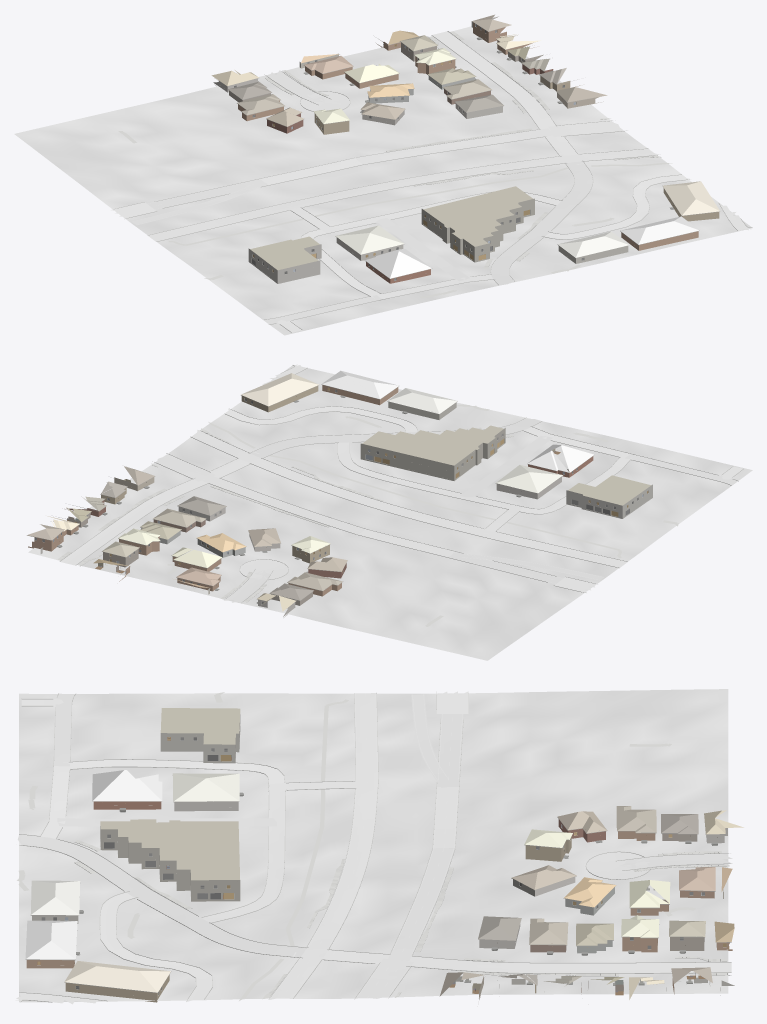
The picture shows the model from 3 angles, top to bottom: view 1: azimuth 30°, elevation 25°; view 2: azimuth 150°, elevation 25°; view 3: azimuth 270°, elevation 25°; orthographic projection. The views are drawn at different scales.
Visible parts, largest first — view 1: ground, roof, concrete, asphalt, wall, curb, roof_flat, wall_com, walk, detail, wall_stucco, wall_stone (+1 smaller); view 2: ground, roof, concrete, asphalt, curb, wall, roof_flat, wall_com, walk, detail, wall_stucco, wall_stone; view 3: ground, roof, concrete, asphalt, roof_flat, curb, wall, walk, wall_com, detail, wall_stone, wall_stucco (+3 smaller).
Boxes of the visible parts, <box> form: ground: <box>14,26,752,335</box>; roof: <box>211,14,719,278</box>; concrete: <box>263,31,751,332</box>; asphalt: <box>111,121,659,241</box>; wall: <box>229,22,719,283</box>; curb: <box>113,31,752,332</box>; roof_flat: <box>250,186,532,270</box>; wall_com: <box>248,198,534,283</box>; walk: <box>118,31,672,298</box>; detail: <box>218,21,719,280</box>; wall_stucco: <box>299,53,628,263</box>; wall_stone: <box>213,16,502,260</box>; ground: <box>28,365,752,660</box>; roof: <box>27,370,593,611</box>; concrete: <box>60,364,742,602</box>; asphalt: <box>157,430,627,593</box>; curb: <box>59,365,743,602</box>; wall: <box>28,385,593,605</box>; roof_flat: <box>362,425,650,505</box>; wall_com: <box>360,428,652,518</box>; walk: <box>57,404,678,626</box>; detail: <box>27,384,648,607</box>; wall_stucco: <box>114,402,456,594</box>; wall_stone: <box>40,477,561,617</box>; ground: <box>19,689,728,1002</box>; roof: <box>25,770,743,999</box>; concrete: <box>15,693,732,1004</box>; asphalt: <box>269,691,468,999</box>; roof_flat: <box>100,708,240,880</box>; curb: <box>19,691,731,1002</box>; wall: <box>26,801,732,1002</box>; walk: <box>17,692,729,1000</box>; wall_com: <box>100,714,240,901</box>; detail: <box>25,724,734,995</box>; wall_stone: <box>174,801,727,995</box>; wall_stucco: <box>32,887,723,999</box>.
Size of the model in its own units: 264 by 12.32 by 261.
